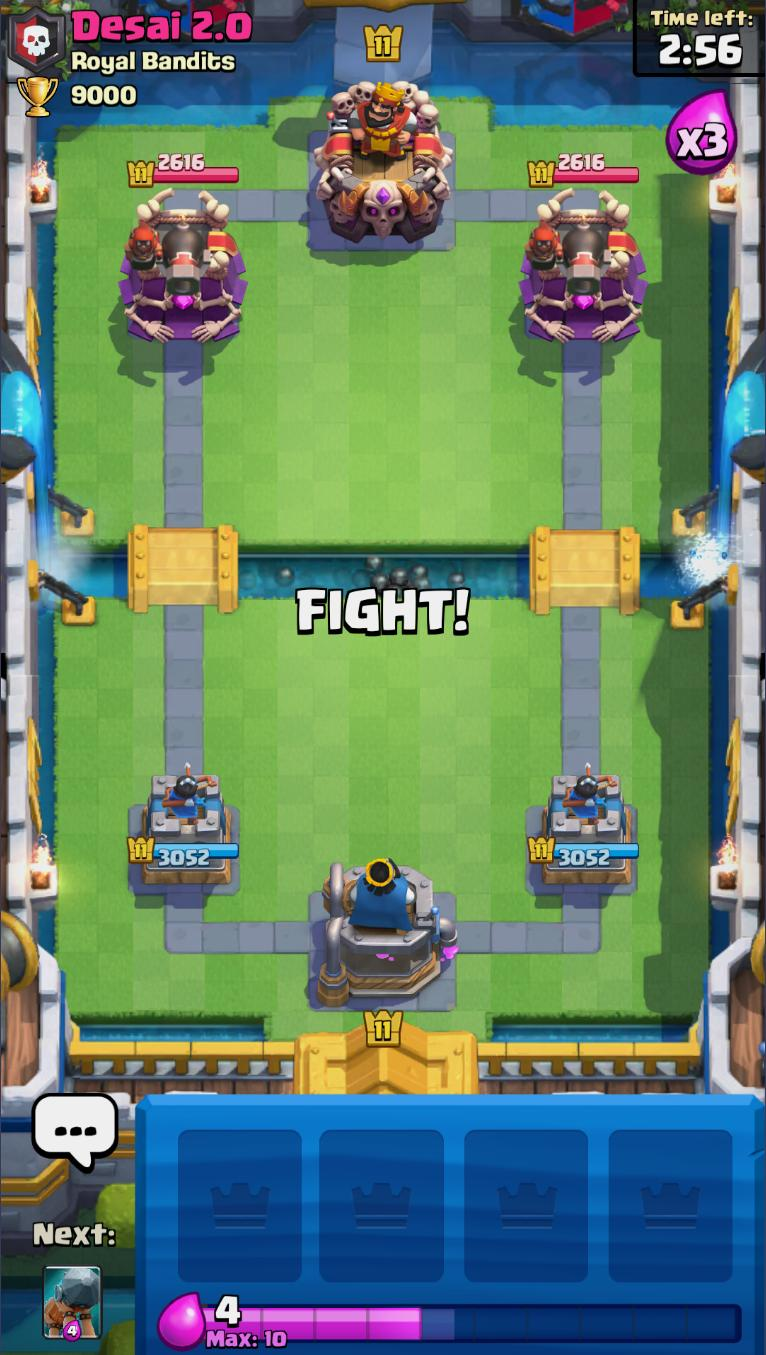BattleRamDeck: (41, 1263, 103, 1340)
Cannoneer: (524, 211, 610, 296), (124, 211, 207, 297)
Elixir: (201, 1294, 746, 1349)
Empty: (454, 1099, 600, 1293), (311, 1099, 454, 1293), (600, 1097, 740, 1293), (171, 1099, 310, 1294)
EnemyTower: (517, 184, 650, 344), (117, 187, 249, 343)
KingTower: (311, 77, 457, 246)
MyKingTower: (314, 857, 460, 1004)
MyPrincessTower: (527, 769, 643, 891), (126, 770, 241, 890)
MyPrincessTowerHP: (524, 831, 643, 871), (126, 831, 240, 870)
TowerPrincessHP: (526, 151, 641, 190), (124, 151, 240, 187)
